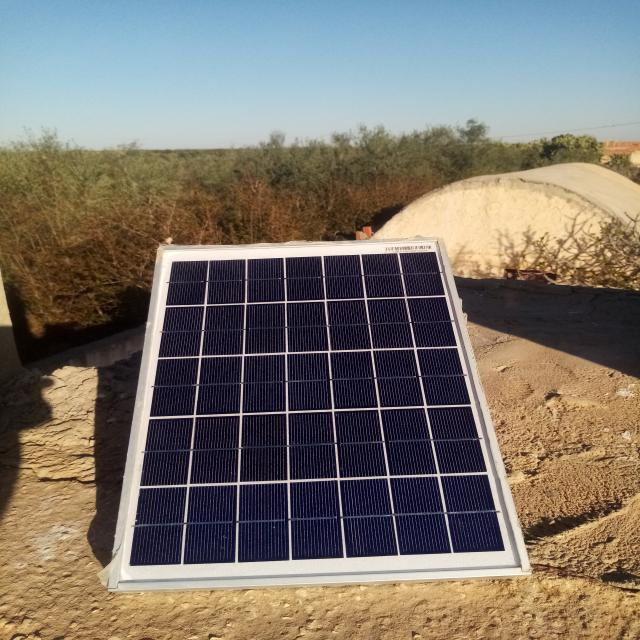no faulty: (115, 238, 527, 589)
